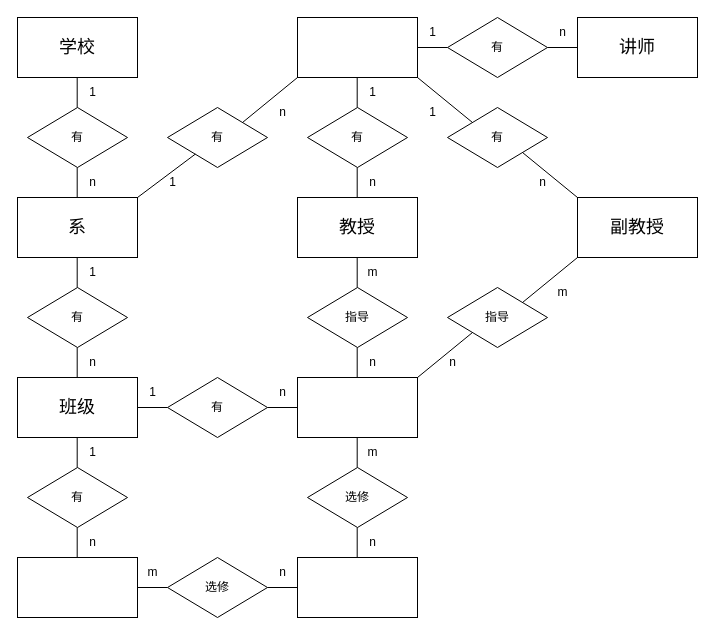
This 715x635 diagram has some shape labels left out. Each missing label, with the box of its shape:
教研室: (296, 16, 418, 78)
本科生: (16, 556, 138, 618)
研究生: (296, 376, 418, 438)
课程: (296, 556, 418, 618)
